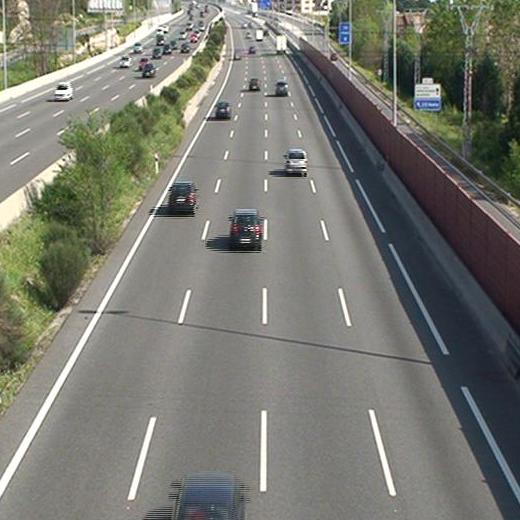car: (230, 210, 261, 248), (169, 184, 197, 213), (284, 148, 308, 173), (215, 101, 232, 118), (249, 79, 261, 91), (276, 82, 287, 95)
small-truck: (275, 34, 286, 53)
